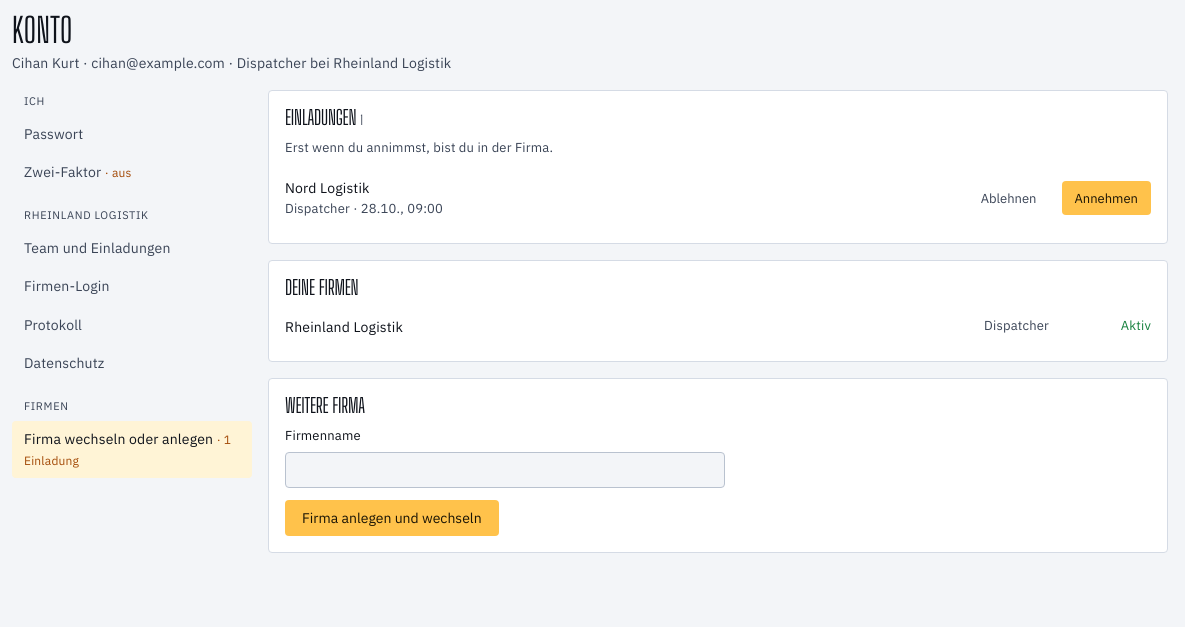
it: account page › declines an invitation
The width and height of the screenshot is (1185, 627).
Click the button with aria-label "Einladung von Nord Logistik ablehnen" at {"x": 1009, "y": 198}, box [968,181,1050,215]
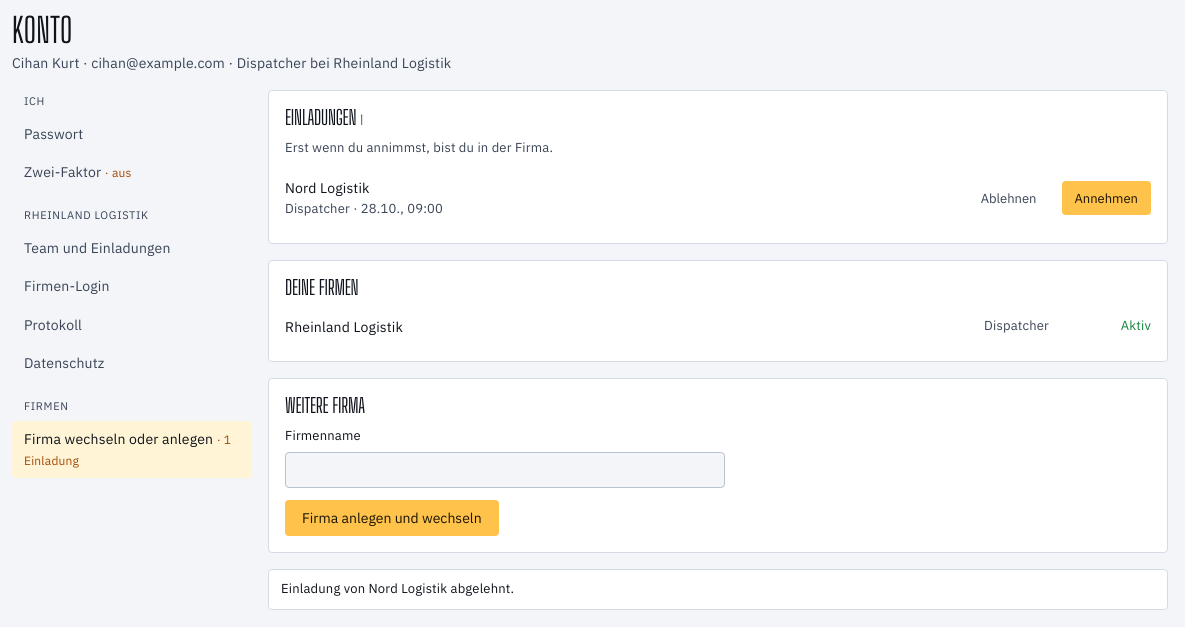
Expected: the text "Einladung von Nord Logistik abgelehnt." is shown, [268,569,1168,610]
